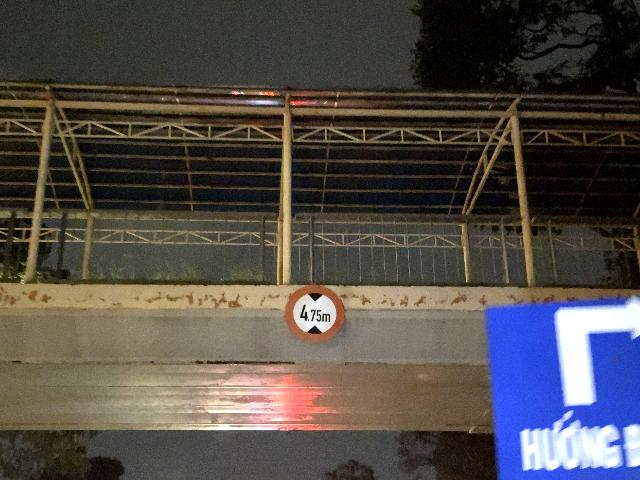han-che-chieu-cao: (286, 285, 345, 342)
